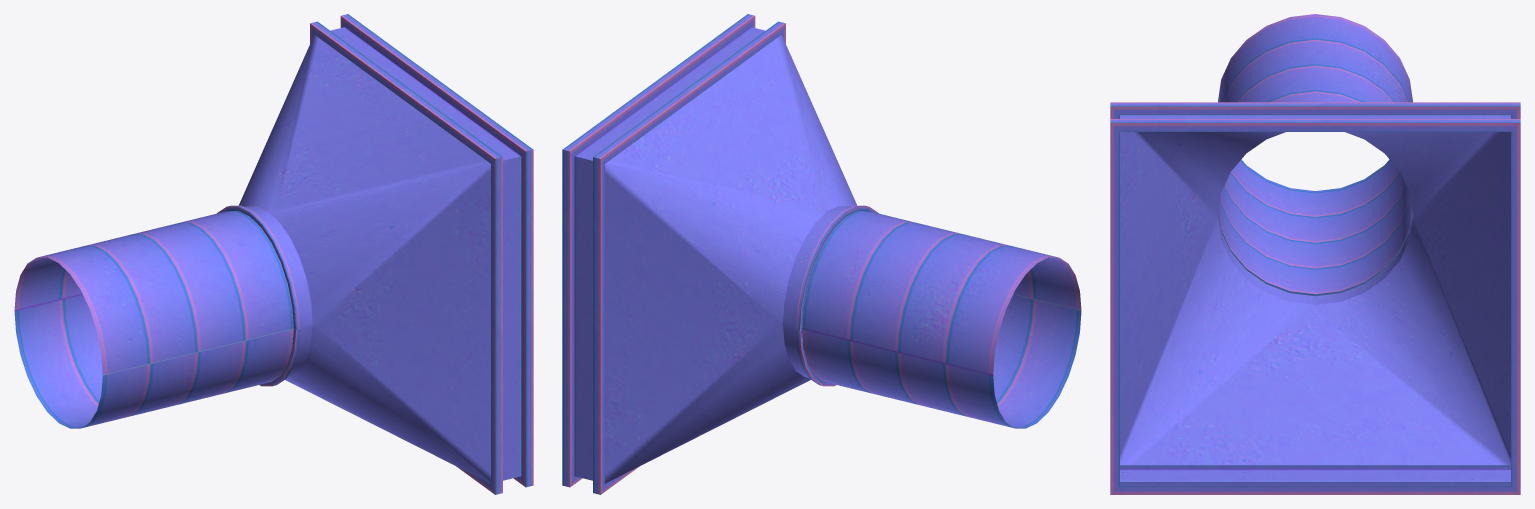
File: Cylindrical_To_Square_Converter.fbx
3 views of the same model, side by side, from view 1: azimuth 30°, elevation 25°; view 2: azimuth 150°, elevation 25°; view 3: azimuth 270°, elevation 25° (orthographic). The views are drawn at different scales.
Parts seen in each view (by area): view 1: Cylindrical_Duct_100cm.002; view 2: Cylindrical_Duct_100cm.002; view 3: Cylindrical_Duct_100cm.002.
Part boxes in pixels (<box>): Cylindrical_Duct_100cm.002: <box>14,14,533,494</box>; Cylindrical_Duct_100cm.002: <box>562,14,1081,494</box>; Cylindrical_Duct_100cm.002: <box>1110,14,1520,494</box>.
Size of the model in its own units: 100 by 84 by 84.
1 material, 1 textured.
